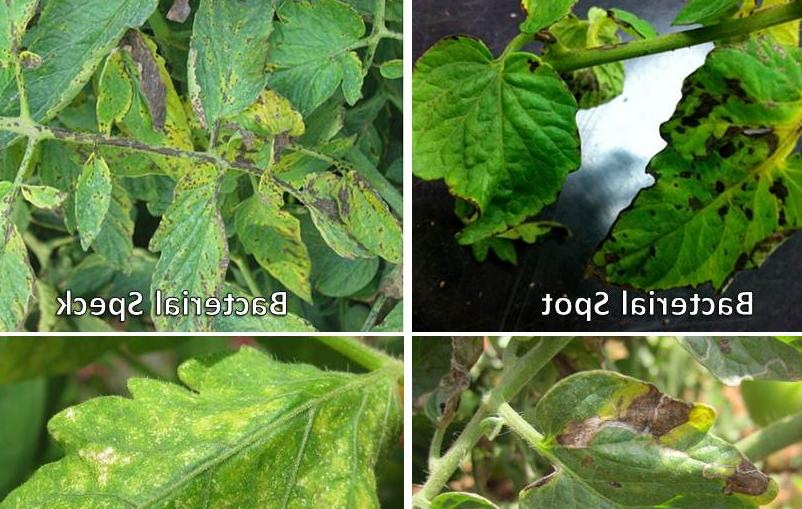Tomato Early blight leaf: (502, 364, 802, 509)
Tomato leaf bacterial spot: (581, 35, 802, 313), (412, 23, 591, 287), (243, 0, 387, 119), (180, 0, 296, 145), (155, 148, 239, 329), (233, 156, 316, 323), (0, 162, 70, 329), (297, 168, 392, 281), (90, 38, 143, 145)
